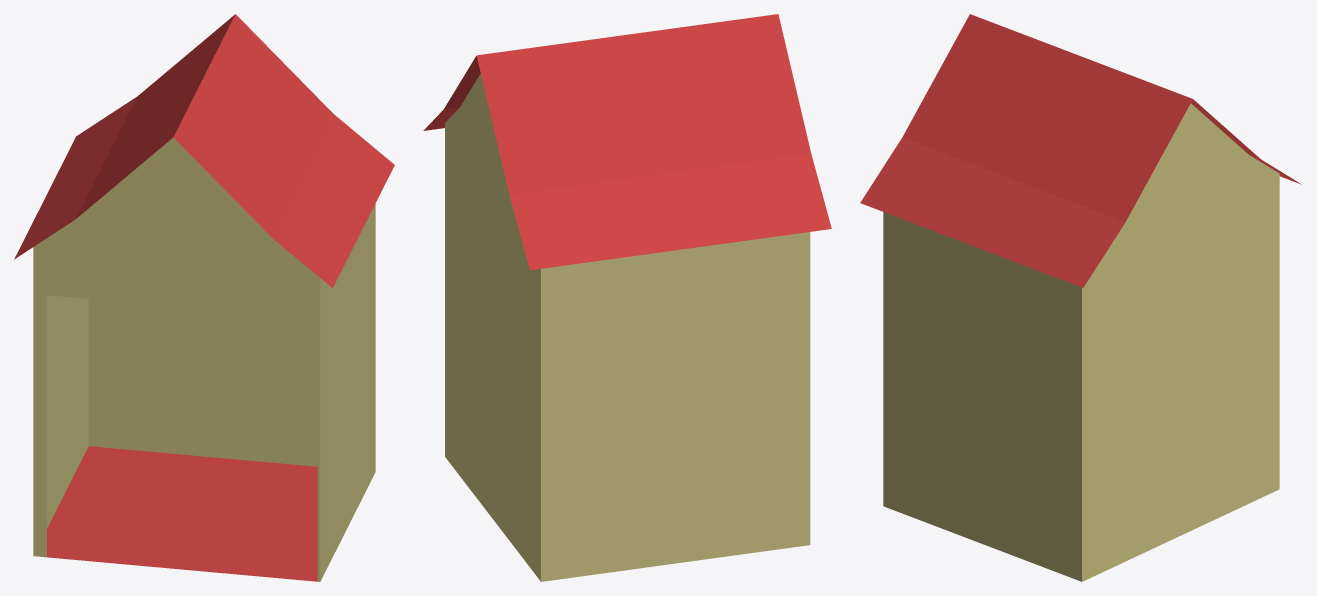
3 renders of one model, left to right at view 1: azimuth 30°, elevation 25°; view 2: azimuth 150°, elevation 25°; view 3: azimuth 270°, elevation 25°, orthographic. The views are drawn at different scales.
Bounding box in the file's own units: 13.61 × 13.55 × 14.9.
